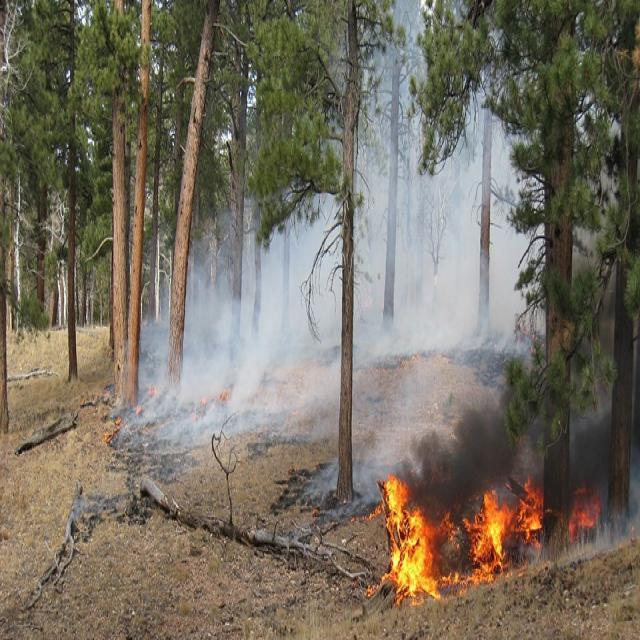Fire: (368, 450, 572, 620)
Smoke: (172, 23, 538, 470)
